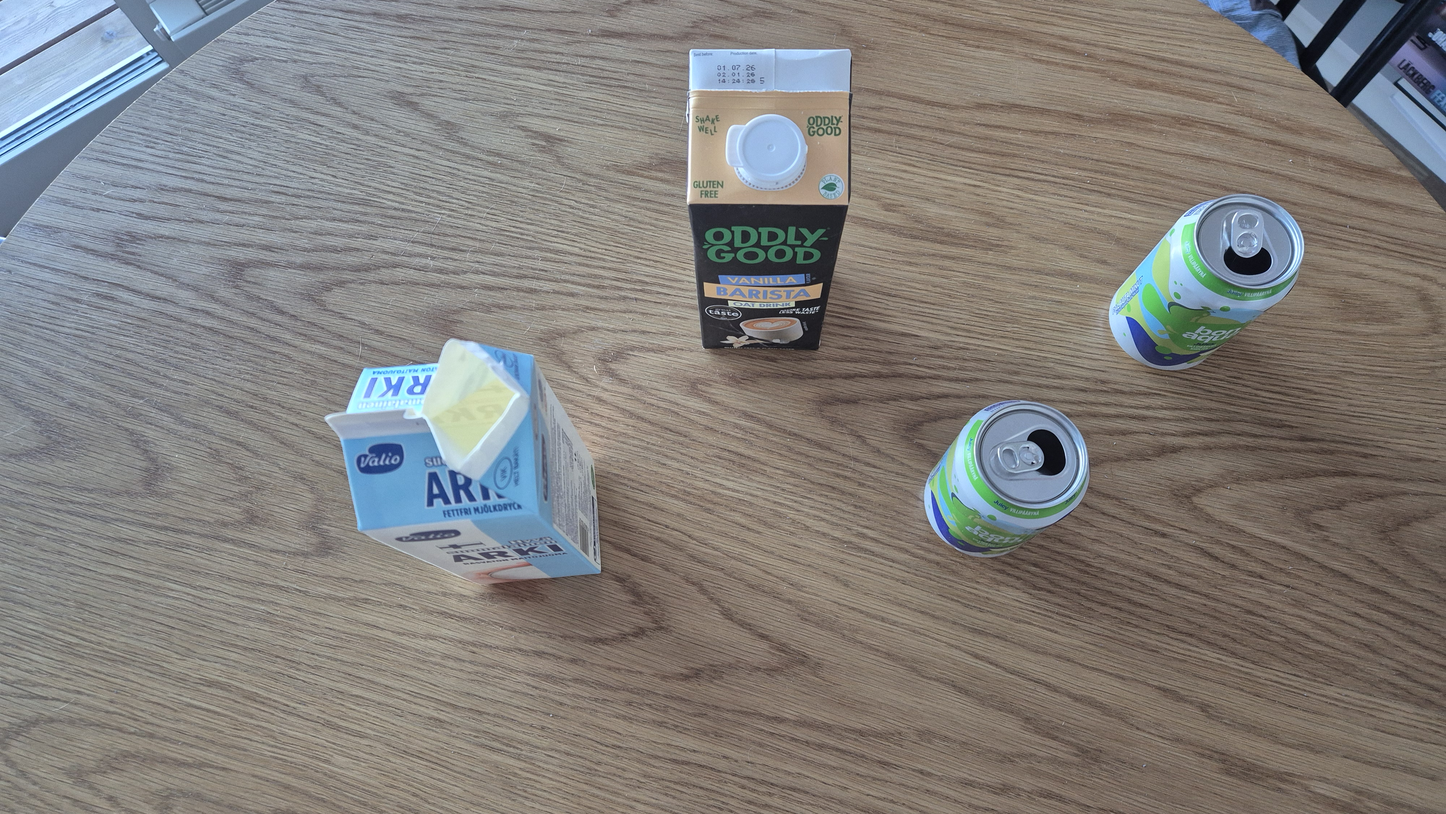Dryckeskartong: (324, 339, 600, 585), (686, 49, 852, 350)
Pantburk: (1109, 193, 1304, 371), (924, 400, 1090, 557)
